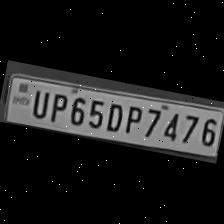4: (156, 107, 182, 143)
5: (84, 96, 107, 130)
6: (195, 113, 221, 148), (65, 92, 89, 126)
7: (177, 111, 200, 145), (140, 104, 162, 139)
D: (102, 98, 126, 133)
P: (45, 89, 69, 124), (120, 102, 144, 136)
U: (27, 86, 52, 120)
